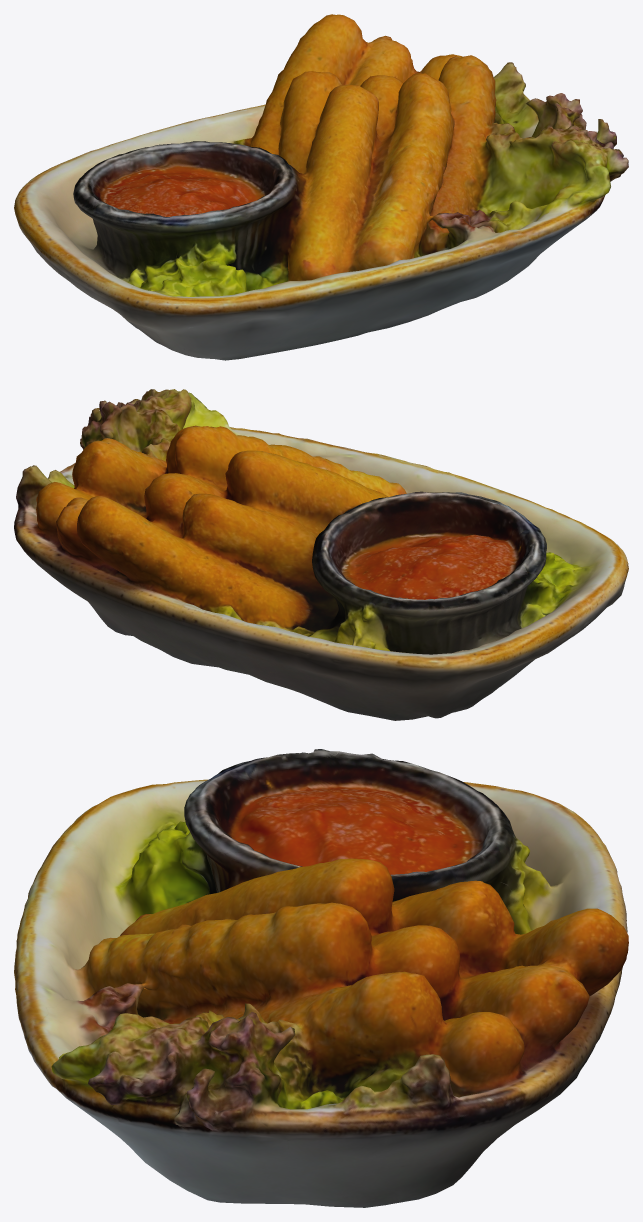
Rendered from mozzerellaSticks_1752072003869.glb.
3 renders of one model, top to bottom at view 1: azimuth 30°, elevation 25°; view 2: azimuth 150°, elevation 25°; view 3: azimuth 270°, elevation 25°, orthographic. The views are drawn at different scales.
Parts seen in each view (by area): view 1: 3DModel_Custom; view 2: 3DModel_Custom; view 3: 3DModel_Custom.
Part boxes in pixels (box(x1,y1,x2,y2)): 3DModel_Custom: box(14, 14, 628, 360); 3DModel_Custom: box(14, 389, 628, 720); 3DModel_Custom: box(14, 749, 628, 1207).
Bounding box in the file's own units: 0.1892 × 0.0706 × 0.1322.
1 material, 1 textured.
